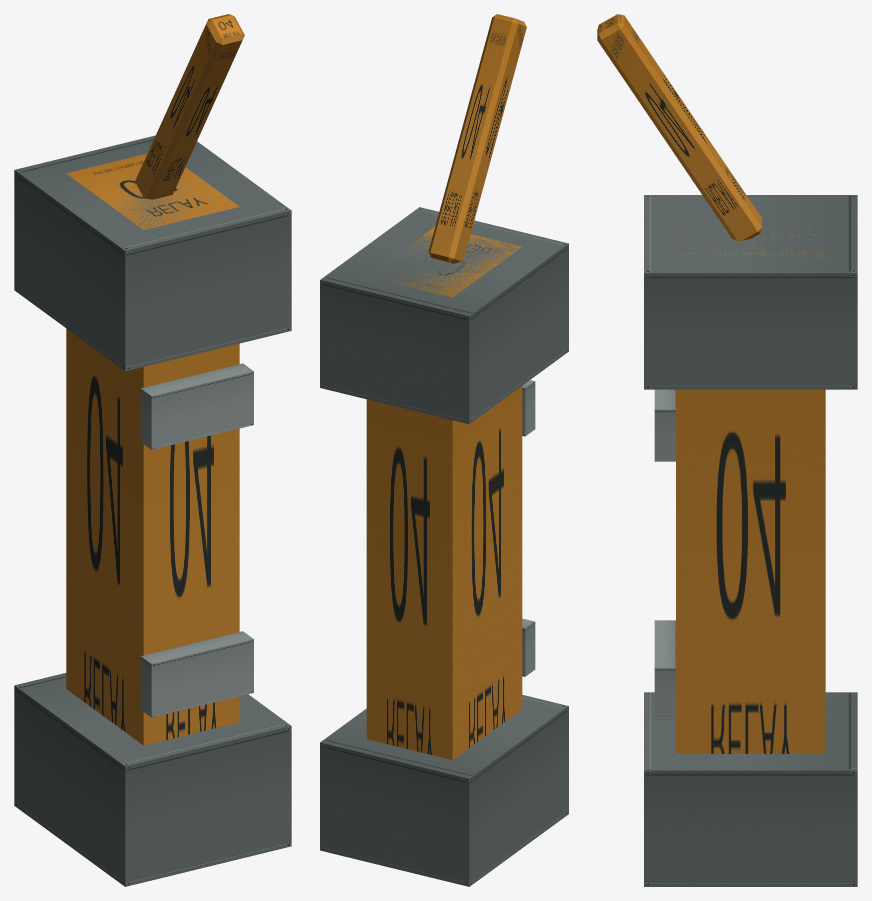
Rendered from column_broken_LOD2.obj.
The picture shows the model from 3 angles, left to right: view 1: azimuth 30°, elevation 25°; view 2: azimuth 150°, elevation 25°; view 3: azimuth 270°, elevation 25°; orthographic projection. The views are drawn at different scales.
Visible parts, largest first — view 1: L02_column_broken_LOD2; view 2: L02_column_broken_LOD2; view 3: L02_column_broken_LOD2.
Boxes of the visible parts, x1,y1,x2,y2 form: L02_column_broken_LOD2: (14,14,291,886); L02_column_broken_LOD2: (320,14,568,886); L02_column_broken_LOD2: (597,14,857,886).
Bounding box in the file's own units: 0.52 × 2.57 × 0.7312.
1 material, 1 textured.
